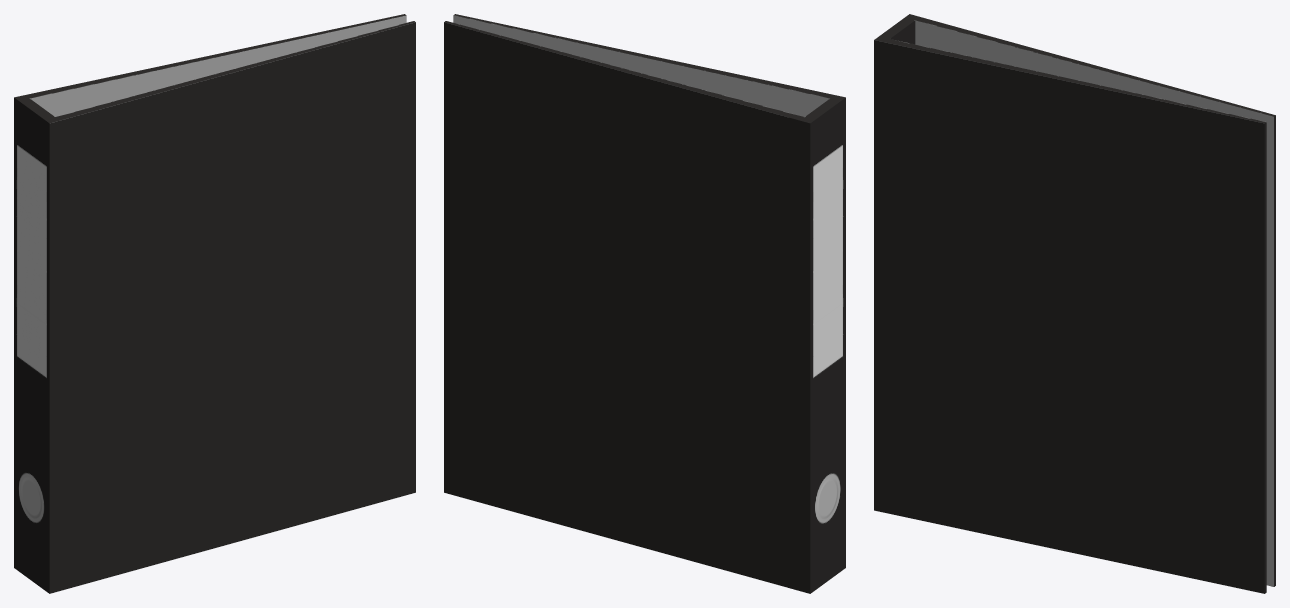
The model's file is ArchFolderBlack.fbx.
3 renders of one model, left to right at view 1: azimuth 30°, elevation 25°; view 2: azimuth 150°, elevation 25°; view 3: azimuth 330°, elevation 25°, orthographic.
Parts seen in each view (by area): view 1: Arch Folder Black; view 2: Arch Folder Black; view 3: Arch Folder Black.
Part boxes in pixels (bbox=[...]): Arch Folder Black: bbox=[14, 14, 415, 593]; Arch Folder Black: bbox=[444, 14, 845, 593]; Arch Folder Black: bbox=[874, 14, 1275, 593].
Bounding box in the file's own units: 13.69 × 16.27 × 2.23.
Materials: 1 (1 with a texture image).
